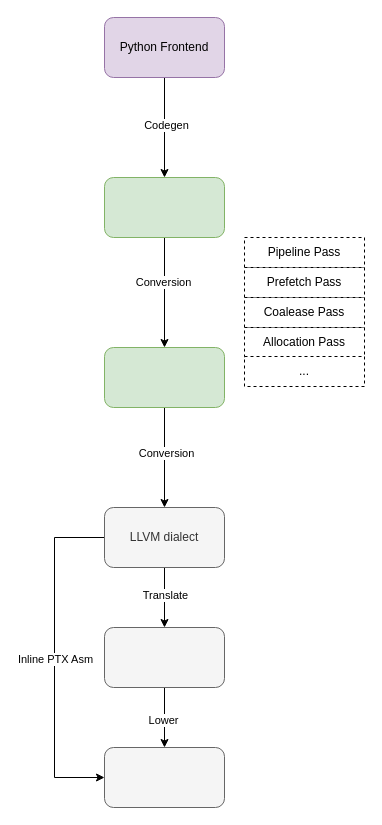
Image size: 382x825. Some labels were removed from this diagram. The box of each missing label's shape, as (x1, y1, x2, y2) in pixels:
LLVM IR: (104, 626, 224, 688)
PTX: (104, 746, 224, 808)
Triton dialect: (104, 176, 224, 238)
TritonGPU dialect: (104, 346, 224, 408)
